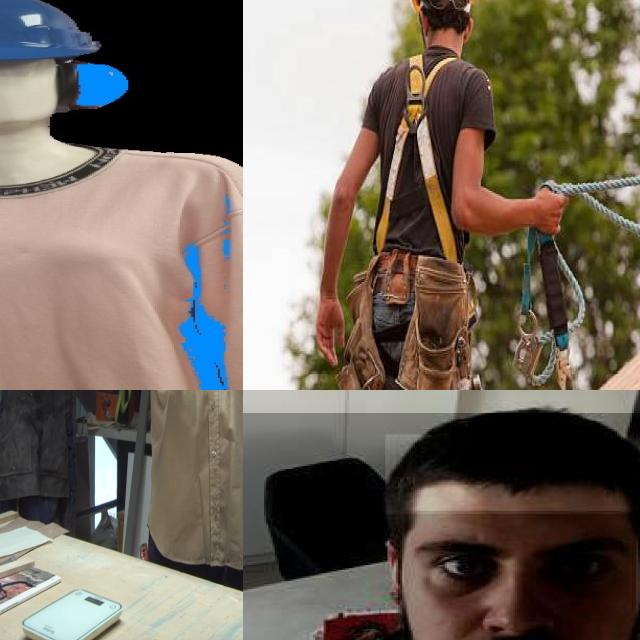Ear-protection: (0, 57, 168, 115)
Harness: (375, 54, 458, 262), (515, 228, 585, 390)
No_Ear-Protection: (374, 530, 418, 605)
No_Glasses: (408, 523, 511, 610)
face_nomask: (404, 510, 638, 640)
head_helmet: (0, 0, 127, 77)
head_nohelmet: (385, 434, 640, 514)
person: (243, 412, 640, 640)
